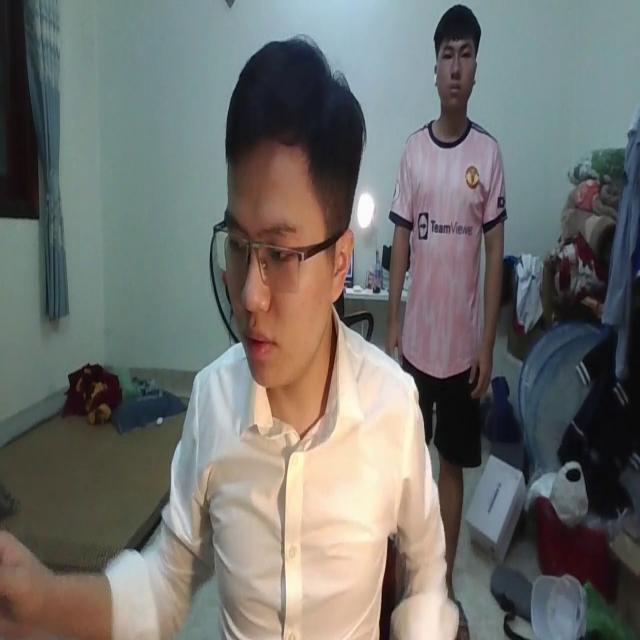extra_person: (388, 0, 506, 593)
student: (0, 37, 453, 640)
